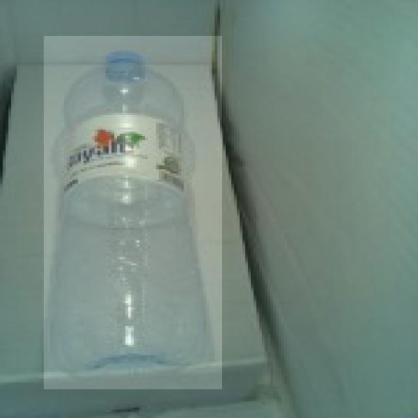bottle: (44, 36, 222, 389)
label: (56, 125, 195, 191)
